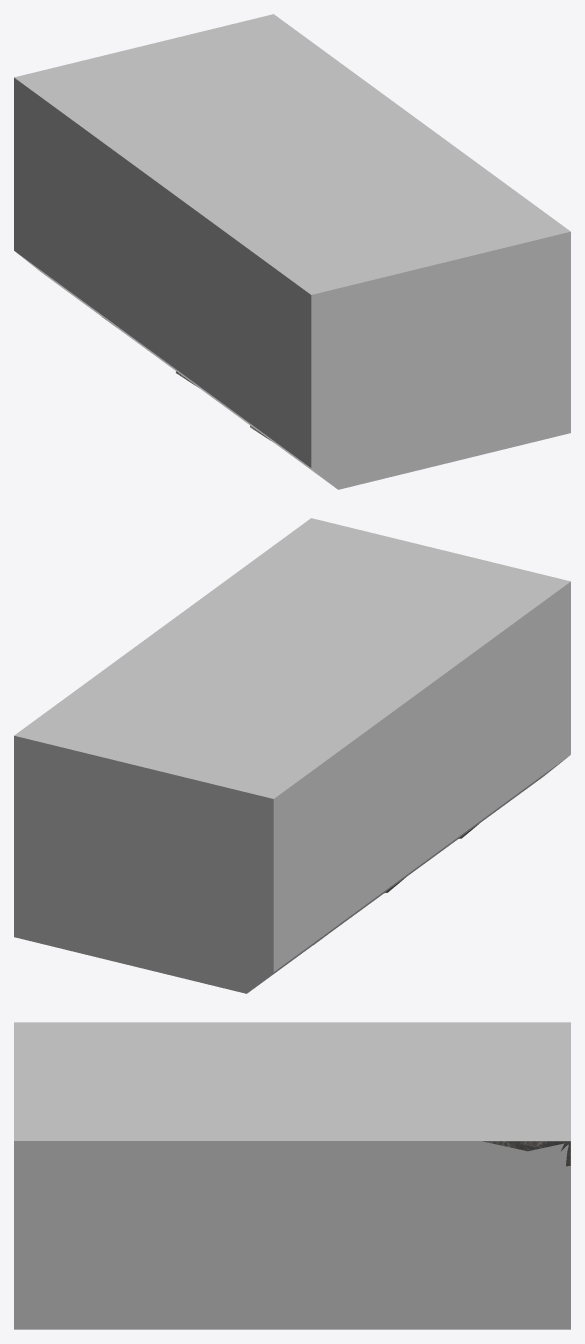
File: SM_corbels.fbx
The picture shows the model from 3 angles, top to bottom: view 1: azimuth 30°, elevation 25°; view 2: azimuth 150°, elevation 25°; view 3: azimuth 270°, elevation 25°; orthographic projection. The views are drawn at different scales.
Visible parts, largest first — view 1: SM_corbels_ConvexHulls; view 2: SM_corbels_ConvexHulls; view 3: SM_corbels_ConvexHulls, SM_corbels.
Boxes of the visible parts, x1,y1,x2,y2 form: SM_corbels_ConvexHulls: [14, 14, 570, 489]; SM_corbels_ConvexHulls: [14, 518, 570, 993]; SM_corbels_ConvexHulls: [14, 1022, 570, 1329]; SM_corbels: [483, 1141, 570, 1166].
Bounding box in the file's own units: 101 × 200 × 74.85.
